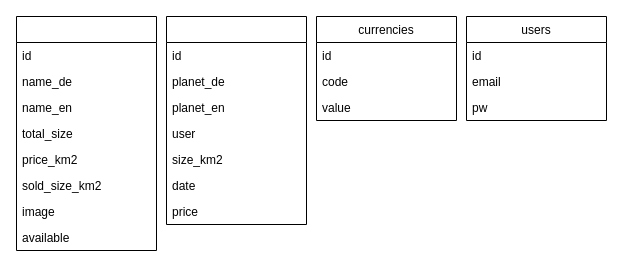
Image size: 623x267. Some labels were removed from this diagram. The shapes that lost their labels are listed below. From the top down, each one's box as (x1, y1, x2, y2) in pixels, then its label:
(16, 16, 156, 250): planets
(166, 16, 306, 224): orders
